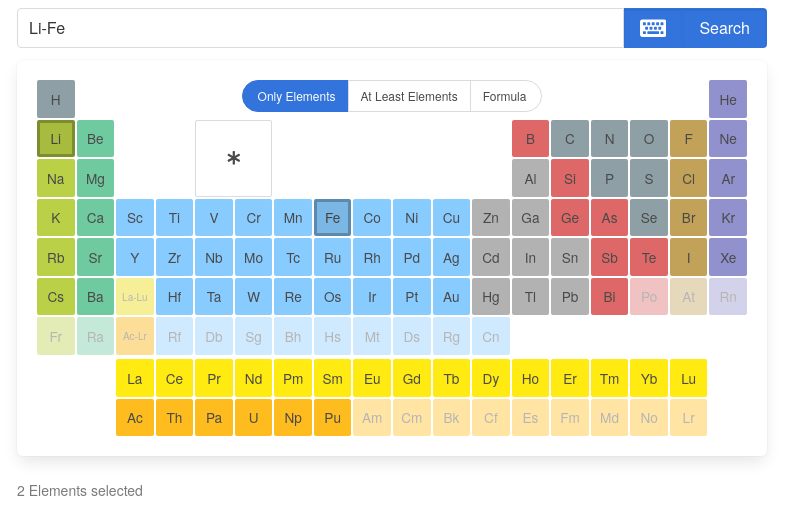
Test: MaterialsInput › converts values when periodic table mode switching changes the effective input type
Click the link "Formula".
click(506, 96)  # box [470,80,542,112]
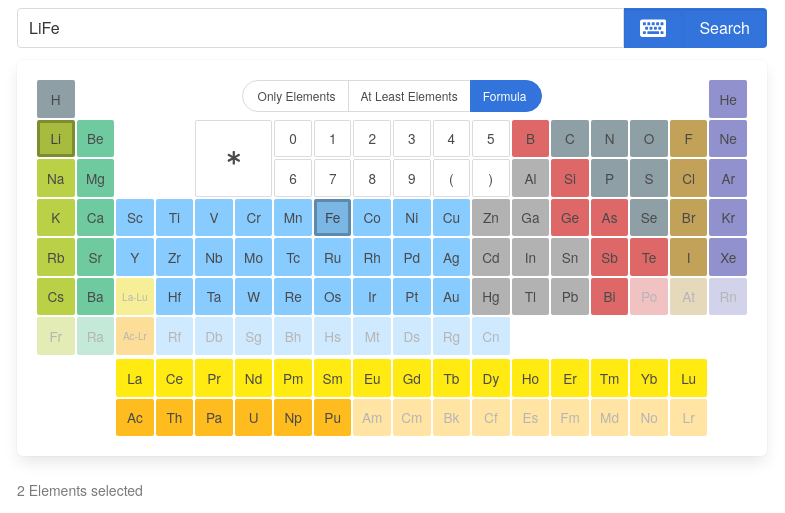
expect the search field with test id "materials-input-search-input" holds "LiFe": met, box [17,8,624,48]
Click the link "Only Elements".
click(295, 96)  # box [242,80,348,112]
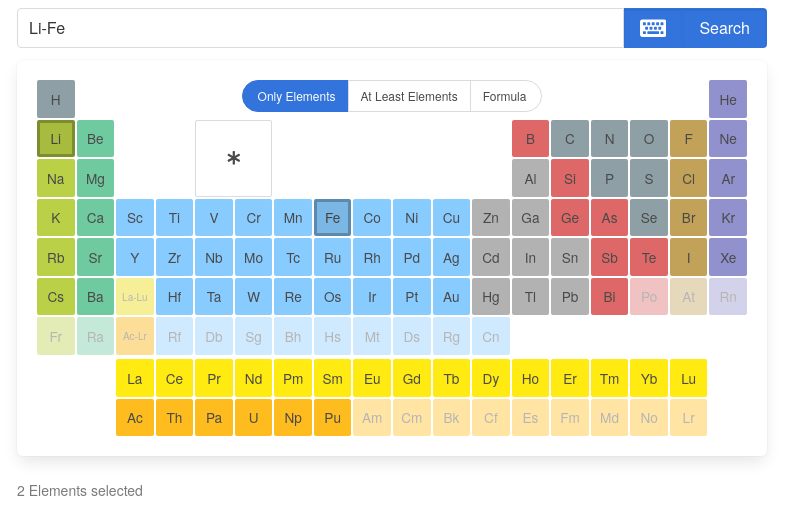
expect the search field with test id "materials-input-search-input" holds "Li-Fe": met, box [17,8,624,48]
